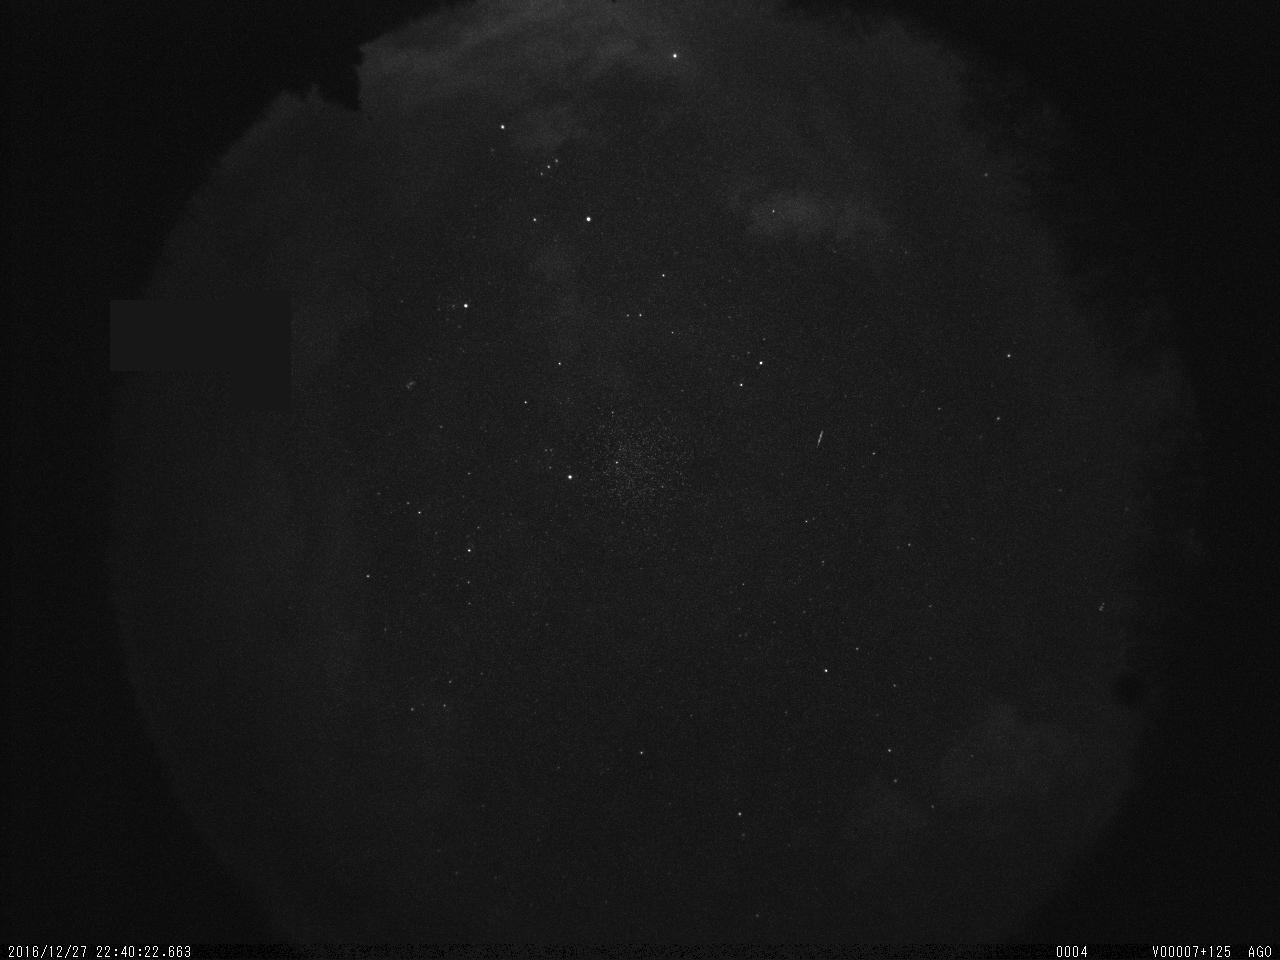meteor: (810, 425, 829, 456)
